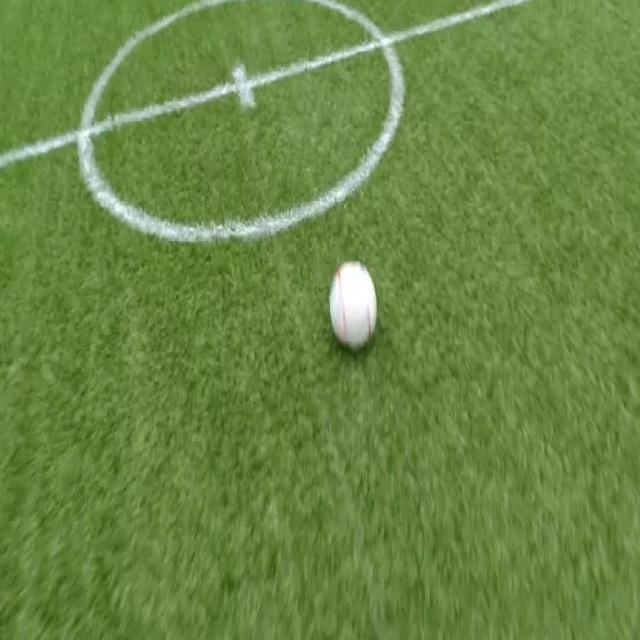ball: (330, 260, 377, 350)
